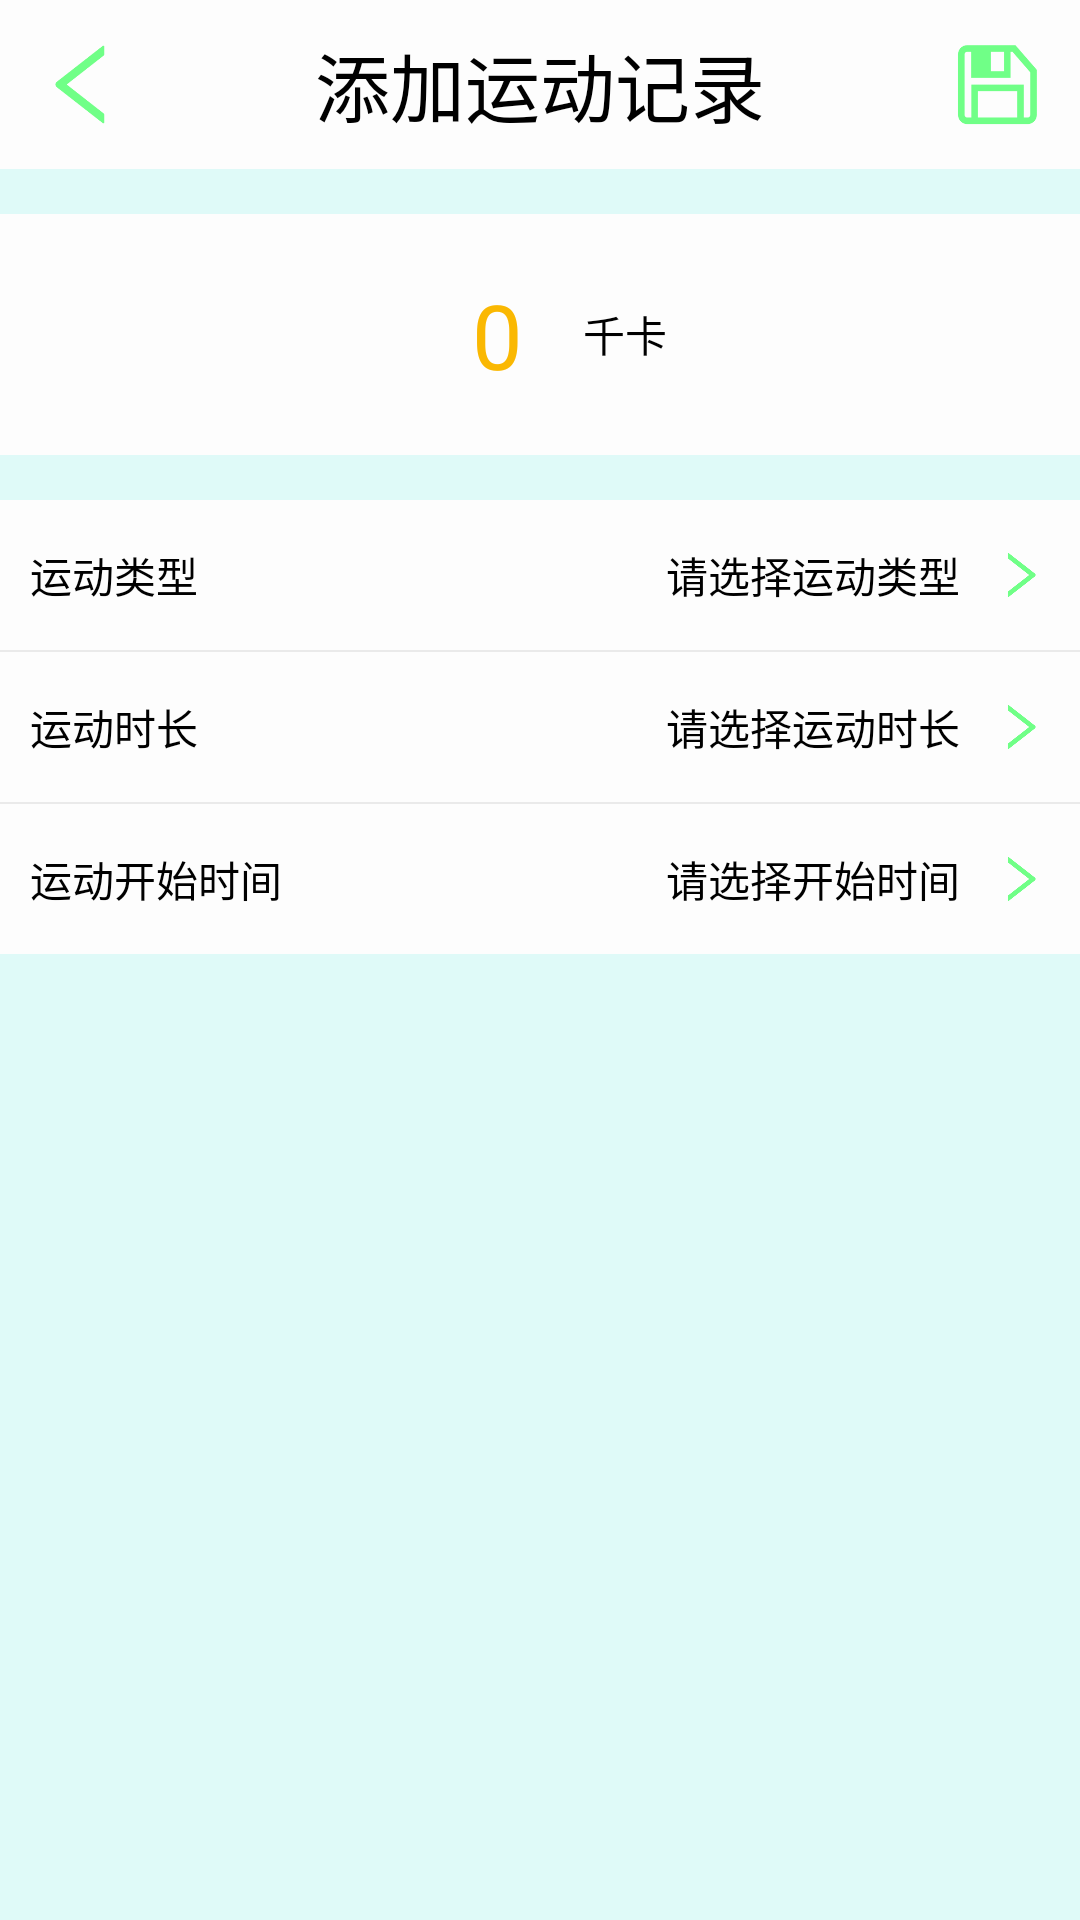

Where icons sit on this 1080 × 1920 app screen, as {"left": x1, "top": y1, "right": x2, "bottom": y2}:
back left: {"left": 55, "top": 45, "right": 105, "bottom": 124}
right: {"left": 1008, "top": 553, "right": 1036, "bottom": 597}, {"left": 1008, "top": 705, "right": 1036, "bottom": 749}, {"left": 1008, "top": 857, "right": 1036, "bottom": 901}
save: {"left": 958, "top": 45, "right": 1037, "bottom": 124}
